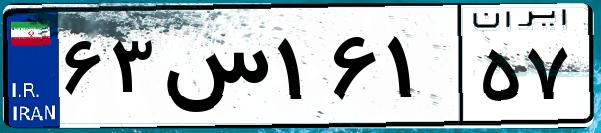1: (270, 28, 330, 110), (385, 28, 445, 110)
3: (110, 28, 158, 98)
5: (475, 38, 525, 113)
6: (330, 28, 385, 110), (57, 26, 110, 100)
7: (525, 38, 570, 115)
س: (158, 20, 270, 120)
